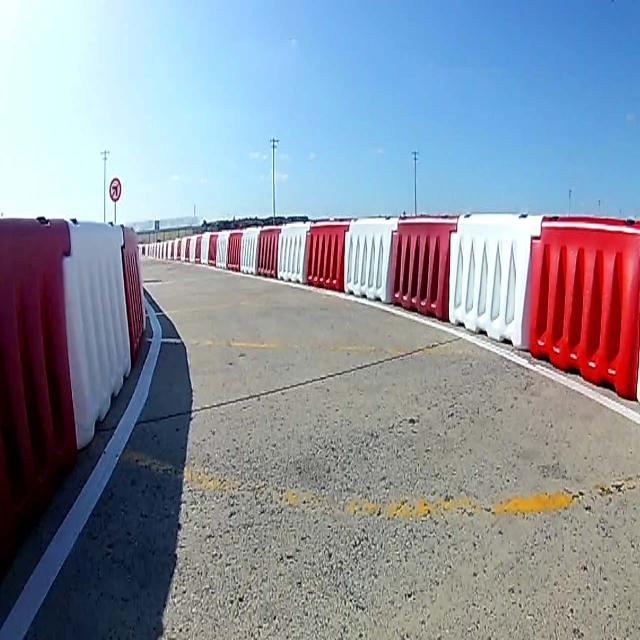soladonulmez: (110, 176, 122, 203)
